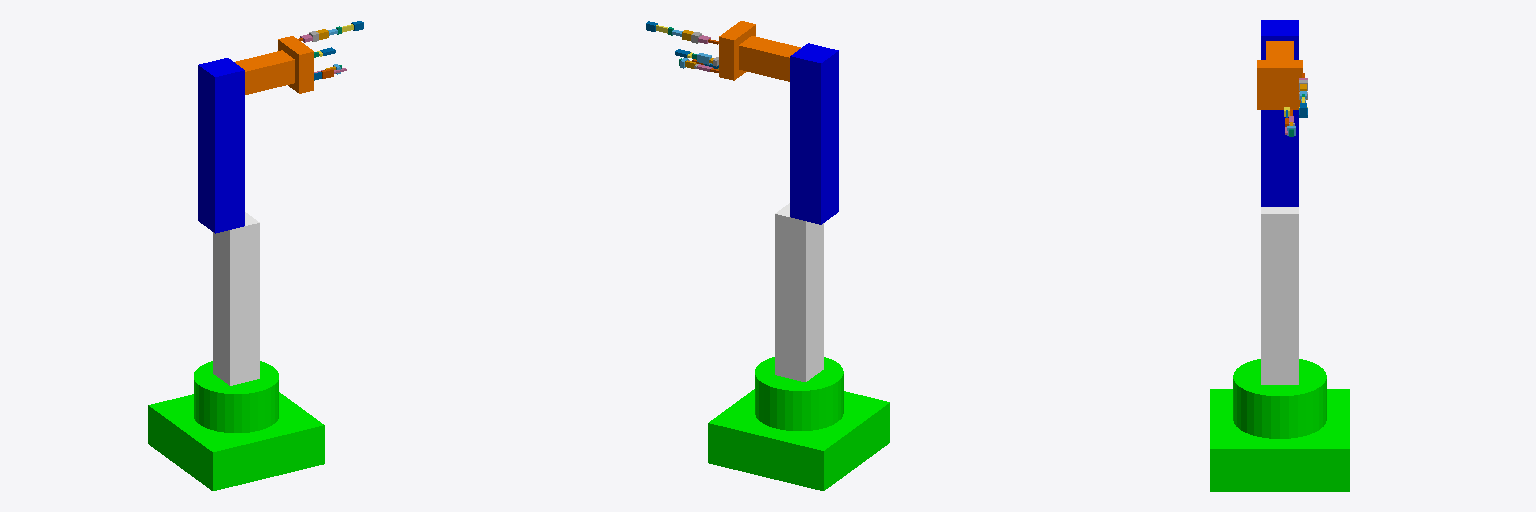
URDF robot description (robot):
<?xml version='1.0' encoding='utf-8'?>
<robot name="robot">
  <link name="base_link">
    <visual>
      <origin xyz="0 0 0.125" rpy="0 0 0" />
      <geometry>
        <box size="0.75 0.75 0.25" />
      </geometry>
      <material name="green" />
    </visual>
    <visual>
      <origin xyz="0 0 0.375" rpy="0 0 0" />
      <geometry>
        <cylinder length="0.25" radius="0.25" />
      </geometry>
      <material name="green">
        <color rgba="0 1 0 1" />
      </material>
    </visual>
    <collision>
      <geometry>
        <box size="0.75 0.75 0.5" />
      </geometry>
    </collision>
    <inertial>
      <mass value="0.5" />
      <inertia ixx="0.034" ixy="0.0" ixz="0.0" iyy="0.034" iyz="0.0" izz="0.034" />
    </inertial>
  </link>
  <link name="support_link">
    <visual>
      <origin xyz="0 0 0.5" rpy="0 0 0" />
      <geometry>
        <box size="0.2 0.2 1" />
      </geometry>
      <material name="white">
        <color rgba="1 1 1 1" />
      </material>
    </visual>
    <collision>
      <geometry>
        <box size="0.2 0.2 1" />
      </geometry>
    </collision>
    <inertial>
      <mass value="0.1" />
      <inertia ixx="0.01" ixy="0.0" ixz="0.0" iyy="0.01" iyz="0.0" izz="0.01" />
    </inertial>
  </link>
  <joint name="support_joint" type="continuous">
    <origin xyz="0 0 0.5" rpy="0 0 0" />
    <parent link="base_link" />
    <child link="support_link" />
    <axis xyz="0 0 1" />
  </joint>
  <link name="arm_link">
    <visual>
      <origin xyz="0 0 0.5" rpy="0 0 0" />
      <geometry>
        <box size="0.2 0.2 1" />
      </geometry>
      <material name="blue">
        <color rgba="0 0 1 1" />
      </material>
    </visual>
    <collision>
      <geometry>
        <box size="0.2 0.2 1" />
      </geometry>
    </collision>
    <inertial>
      <mass value="0.1" />
      <inertia ixx="0.01" ixy="0.0" ixz="0.0" iyy="0.01" iyz="0.0" izz="0.01" />
    </inertial>
  </link>
  <joint name="arm_joint" type="revolute">
    <origin xyz="-0.1 0 1" rpy="0 0 0" />
    <parent link="support_link" />
    <child link="arm_link" />
    <axis xyz="0 1 0" />
    <limit lower="-3.14" upper="3.14" effort="1.0" velocity="1.0" />
  </joint>
  <link name="wrist_link">
    <visual>
      <origin xyz="0 0 0.25" rpy="0 0 0" />
      <geometry>
        <box size="0.15 0.15 0.5" />
      </geometry>
      <material name="orange">
        <color rgba="1 0.5 0 1" />
      </material>
    </visual>
    <collision>
      <geometry>
        <box size="0.15 0.15 0.5" />
      </geometry>
    </collision>
    <inertial>
      <mass value="0.1" />
      <inertia ixx="0.01" ixy="0.0" ixz="0.0" iyy="0.01" iyz="0.0" izz="0.01" />
    </inertial>
  </link>
  <joint name="wrist_joint" type="fixed">
    <origin xyz="0 0 0.9" rpy="0 1.571 0" />
    <parent link="arm_link" />
    <child link="wrist_link" />
  </joint>
  <link name="palm_link">
    <visual>
      <origin xyz="0 0 0.05" rpy="0 0 0" />
      <geometry>
        <box size="0.25 0.25 0.1" />
      </geometry>
      <material name="orange" />
    </visual>
    <collision>
      <geometry>
        <box size="0.25 0.25 0.1" />
      </geometry>
    </collision>
    <inertial>
      <mass value="0.1" />
      <inertia ixx="0.01" ixy="0.0" ixz="0.0" iyy="0.01" iyz="0.0" izz="0.01" />
    </inertial>
  </link>
  <joint name="palm_joint" type="fixed">
    <origin xyz="0 0 0.45" rpy="0 0 0" />
    <parent link="wrist_link" />
    <child link="palm_link" />
  </joint>
  <link name="finger_link_0_0">
    <visual>
      <origin xyz="0 0 0.0425" rpy="0 0 0" />
      <geometry>
        <box size="0.014 0.018 0.085" />
      </geometry>
    </visual>
    <collision>
      <geometry>
        <box size="0.014 0.018 0.085" />
      </geometry>
    </collision>
    <inertial>
      <mass value="0.006" />
      <inertia ixx="0.0" iyy="0.0" izz="0.0" ixy="0" ixz="0" iyz="0" />
    </inertial>
  </link>
  <joint name="finger_joint_palm_link_to_finger_link_0_0" type="revolute">
    <origin xyz="0.125 0.062 0.1" rpy="0 0 0" />
    <parent link="palm_link" />
    <child link="finger_link_0_0" />
    <axis xyz="0.0 1.0 0.0" />
    <limit lower="-3.142" upper="3.142" effort="10" velocity="10" />
  </joint>
  <link name="finger_link_0_1">
    <visual>
      <origin xyz="0 0 0.042" rpy="0 0 0" />
      <geometry>
        <box size="0.018 0.03 0.084" />
      </geometry>
    </visual>
    <collision>
      <geometry>
        <box size="0.018 0.03 0.084" />
      </geometry>
    </collision>
    <inertial>
      <mass value="0.014" />
      <inertia ixx="0.0" iyy="0.0" izz="0.0" ixy="0" ixz="0" iyz="0" />
    </inertial>
  </link>
  <joint name="finger_joint_finger_link_0_0_to_finger_link_0_1" type="revolute">
    <origin xyz="0.0 0.0 0.085" rpy="0 0 0" />
    <parent link="finger_link_0_0" />
    <child link="finger_link_0_1" />
    <axis xyz="0.0 1.0 0.0" />
    <limit lower="-3.142" upper="3.142" effort="10" velocity="10" />
  </joint>
  <link name="finger_link_0_2">
    <visual>
      <origin xyz="0 0 0.008" rpy="0 0 0" />
      <geometry>
        <box size="0.014 0.035 0.016" />
      </geometry>
    </visual>
    <collision>
      <geometry>
        <box size="0.014 0.035 0.016" />
      </geometry>
    </collision>
    <inertial>
      <mass value="0.002" />
      <inertia ixx="0.0" iyy="0.0" izz="0.0" ixy="0" ixz="0" iyz="0" />
    </inertial>
  </link>
  <joint name="finger_joint_finger_link_0_1_to_finger_link_0_2" type="revolute">
    <origin xyz="0.0 0.0 0.084" rpy="0 0 0" />
    <parent link="finger_link_0_1" />
    <child link="finger_link_0_2" />
    <axis xyz="1.0 1.0 0.0" />
    <limit lower="-3.142" upper="3.142" effort="10" velocity="10" />
  </joint>
  <link name="finger_link_0_3">
    <visual>
      <origin xyz="0 0 0.031" rpy="0 0 0" />
      <geometry>
        <box size="0.036 0.018 0.062" />
      </geometry>
    </visual>
    <collision>
      <geometry>
        <box size="0.036 0.018 0.062" />
      </geometry>
    </collision>
    <inertial>
      <mass value="0.012" />
      <inertia ixx="0.0" iyy="0.0" izz="0.0" ixy="0" ixz="0" iyz="0" />
    </inertial>
  </link>
  <joint name="finger_joint_finger_link_0_2_to_finger_link_0_3" type="revolute">
    <origin xyz="0.0 0.0 0.016" rpy="0 0 0" />
    <parent link="finger_link_0_2" />
    <child link="finger_link_0_3" />
    <axis xyz="1.0 0.0 0.0" />
    <limit lower="-3.142" upper="3.142" effort="10" velocity="10" />
  </joint>
  <link name="finger_link_0_4">
    <visual>
      <origin xyz="0 0 0.013" rpy="0 0 0" />
      <geometry>
        <box size="0.042 0.05 0.026" />
      </geometry>
    </visual>
    <collision>
      <geometry>
        <box size="0.042 0.05 0.026" />
      </geometry>
    </collision>
    <inertial>
      <mass value="0.016" />
      <inertia ixx="0.0" iyy="0.0" izz="0.0" ixy="0" ixz="0" iyz="0" />
    </inertial>
  </link>
  <joint name="finger_joint_finger_link_0_3_to_finger_link_0_4" type="revolute">
    <origin xyz="0.0 0.0 0.062" rpy="0 0 0" />
    <parent link="finger_link_0_3" />
    <child link="finger_link_0_4" />
    <axis xyz="0.0 1.0 0.0" />
    <limit lower="-3.142" upper="3.142" effort="10" velocity="10" />
  </joint>
  <link name="finger_link_0_5">
    <visual>
      <origin xyz="0 0 0.0075" rpy="0 0 0" />
      <geometry>
        <box size="0.04 0.023 0.015" />
      </geometry>
    </visual>
    <collision>
      <geometry>
        <box size="0.04 0.023 0.015" />
      </geometry>
    </collision>
    <inertial>
      <mass value="0.004" />
      <inertia ixx="0.0" iyy="0.0" izz="0.0" ixy="0" ixz="0" iyz="0" />
    </inertial>
  </link>
  <joint name="finger_joint_finger_link_0_4_to_finger_link_0_5" type="revolute">
    <origin xyz="0.0 0.0 0.026" rpy="0 0 0" />
    <parent link="finger_link_0_4" />
    <child link="finger_link_0_5" />
    <axis xyz="1.0 1.0 0.0" />
    <limit lower="-3.142" upper="3.142" effort="10" velocity="10" />
  </joint>
  <link name="finger_link_1_0">
    <visual>
      <origin xyz="0 0 0.0225" rpy="0 0 0" />
      <geometry>
        <box size="0.034 0.031 0.045" />
      </geometry>
    </visual>
    <collision>
      <geometry>
        <box size="0.034 0.031 0.045" />
      </geometry>
    </collision>
    <inertial>
      <mass value="0.014" />
      <inertia ixx="0.0" iyy="0.0" izz="0.0" ixy="0" ixz="0" iyz="0" />
    </inertial>
  </link>
  <joint name="finger_joint_palm_link_to_finger_link_1_0" type="revolute">
    <origin xyz="0.125 0.036 0.1" rpy="0 0 0" />
    <parent link="palm_link" />
    <child link="finger_link_1_0" />
    <axis xyz="0.0 1.0 0.0" />
    <limit lower="-3.142" upper="3.142" effort="10" velocity="10" />
  </joint>
  <link name="finger_link_1_1">
    <visual>
      <origin xyz="0 0 0.0485" rpy="0 0 0" />
      <geometry>
        <box size="0.042 0.01 0.097" />
      </geometry>
    </visual>
    <collision>
      <geometry>
        <box size="0.042 0.01 0.097" />
      </geometry>
    </collision>
    <inertial>
      <mass value="0.012" />
      <inertia ixx="0.0" iyy="0.0" izz="0.0" ixy="0" ixz="0" iyz="0" />
    </inertial>
  </link>
  <joint name="finger_joint_finger_link_1_0_to_finger_link_1_1" type="revolute">
    <origin xyz="0.0 0.0 0.045" rpy="0 0 0" />
    <parent link="finger_link_1_0" />
    <child link="finger_link_1_1" />
    <axis xyz="1.0 1.0 0.0" />
    <limit lower="-3.142" upper="3.142" effort="10" velocity="10" />
  </joint>
  <link name="finger_link_1_2">
    <visual>
      <origin xyz="0 0 0.0375" rpy="0 0 0" />
      <geometry>
        <box size="0.046 0.021 0.075" />
      </geometry>
    </visual>
    <collision>
      <geometry>
        <box size="0.046 0.021 0.075" />
      </geometry>
    </collision>
    <inertial>
      <mass value="0.022" />
      <inertia ixx="0.0" iyy="0.0" izz="0.0" ixy="0" ixz="0" iyz="0" />
    </inertial>
  </link>
  <joint name="finger_joint_finger_link_1_1_to_finger_link_1_2" type="revolute">
    <origin xyz="0.0 0.0 0.097" rpy="0 0 0" />
    <parent link="finger_link_1_1" />
    <child link="finger_link_1_2" />
    <axis xyz="0.0 1.0 0.0" />
    <limit lower="-3.142" upper="3.142" effort="10" velocity="10" />
  </joint>
  <link name="finger_link_1_3">
    <visual>
      <origin xyz="0 0 0.043" rpy="0 0 0" />
      <geometry>
        <box size="0.012 0.018 0.086" />
      </geometry>
    </visual>
    <collision>
      <geometry>
        <box size="0.012 0.018 0.086" />
      </geometry>
    </collision>
    <inertial>
      <mass value="0.006" />
      <inertia ixx="0.0" iyy="0.0" izz="0.0" ixy="0" ixz="0" iyz="0" />
    </inertial>
  </link>
  <joint name="finger_joint_finger_link_1_2_to_finger_link_1_3" type="revolute">
    <origin xyz="0.0 0.0 0.075" rpy="0 0 0" />
    <parent link="finger_link_1_2" />
    <child link="finger_link_1_3" />
    <axis xyz="0.0 1.0 0.0" />
    <limit lower="-3.142" upper="3.142" effort="10" velocity="10" />
  </joint>
  <link name="finger_link_2_0">
    <visual>
      <origin xyz="0 0 0.0135" rpy="0 0 0" />
      <geometry>
        <box size="0.036 0.047 0.027" />
      </geometry>
    </visual>
    <collision>
      <geometry>
        <box size="0.036 0.047 0.027" />
      </geometry>
    </collision>
    <inertial>
      <mass value="0.014" />
      <inertia ixx="0.0" iyy="0.0" izz="0.0" ixy="0" ixz="0" iyz="0" />
    </inertial>
  </link>
  <joint name="finger_joint_palm_link_to_finger_link_2_0" type="revolute">
    <origin xyz="0.033 0.125 0.1" rpy="0 0 0" />
    <parent link="palm_link" />
    <child link="finger_link_2_0" />
    <axis xyz="-1.0 0.0 0.0" />
    <limit lower="-3.142" upper="3.142" effort="10" velocity="10" />
  </joint>
  <link name="finger_link_2_1">
    <visual>
      <origin xyz="0 0 0.0125" rpy="0 0 0" />
      <geometry>
        <box size="0.016 0.034 0.025" />
      </geometry>
    </visual>
    <collision>
      <geometry>
        <box size="0.016 0.034 0.025" />
      </geometry>
    </collision>
    <inertial>
      <mass value="0.004" />
      <inertia ixx="0.0" iyy="0.0" izz="0.0" ixy="0" ixz="0" iyz="0" />
    </inertial>
  </link>
  <joint name="finger_joint_finger_link_2_0_to_finger_link_2_1" type="revolute">
    <origin xyz="0.0 0.0 0.027" rpy="0 0 0" />
    <parent link="finger_link_2_0" />
    <child link="finger_link_2_1" />
    <axis xyz="1.0 0.0 0.0" />
    <limit lower="-3.142" upper="3.142" effort="10" velocity="10" />
  </joint>
  <link name="finger_link_2_2">
    <visual>
      <origin xyz="0 0 0.039" rpy="0 0 0" />
      <geometry>
        <box size="0.047 0.031 0.078" />
      </geometry>
    </visual>
    <collision>
      <geometry>
        <box size="0.047 0.031 0.078" />
      </geometry>
    </collision>
    <inertial>
      <mass value="0.034" />
      <inertia ixx="0.0" iyy="0.0" izz="0.0" ixy="0" ixz="0" iyz="0" />
    </inertial>
  </link>
  <joint name="finger_joint_finger_link_2_1_to_finger_link_2_2" type="revolute">
    <origin xyz="0.0 0.0 0.025" rpy="0 0 0" />
    <parent link="finger_link_2_1" />
    <child link="finger_link_2_2" />
    <axis xyz="1.0 0.0 0.0" />
    <limit lower="-3.142" upper="3.142" effort="10" velocity="10" />
  </joint>
  <link name="finger_link_2_3">
    <visual>
      <origin xyz="0 0 0.021" rpy="0 0 0" />
      <geometry>
        <box size="0.026 0.015 0.042" />
      </geometry>
    </visual>
    <collision>
      <geometry>
        <box size="0.026 0.015 0.042" />
      </geometry>
    </collision>
    <inertial>
      <mass value="0.005" />
      <inertia ixx="0.0" iyy="0.0" izz="0.0" ixy="0" ixz="0" iyz="0" />
    </inertial>
  </link>
  <joint name="finger_joint_finger_link_2_2_to_finger_link_2_3" type="revolute">
    <origin xyz="0.0 0.0 0.078" rpy="0 0 0" />
    <parent link="finger_link_2_2" />
    <child link="finger_link_2_3" />
    <axis xyz="0.0 1.0 0.0" />
    <limit lower="-3.142" upper="3.142" effort="10" velocity="10" />
  </joint>
  <link name="finger_link_2_4">
    <visual>
      <origin xyz="0 0 0.01" rpy="0 0 0" />
      <geometry>
        <box size="0.016 0.045 0.02" />
      </geometry>
    </visual>
    <collision>
      <geometry>
        <box size="0.016 0.045 0.02" />
      </geometry>
    </collision>
    <inertial>
      <mass value="0.004" />
      <inertia ixx="0.0" iyy="0.0" izz="0.0" ixy="0" ixz="0" iyz="0" />
    </inertial>
  </link>
  <joint name="finger_joint_finger_link_2_3_to_finger_link_2_4" type="revolute">
    <origin xyz="0.0 0.0 0.042" rpy="0 0 0" />
    <parent link="finger_link_2_3" />
    <child link="finger_link_2_4" />
    <axis xyz="1.0 0.0 0.0" />
    <limit lower="-3.142" upper="3.142" effort="10" velocity="10" />
  </joint>
  <link name="finger_link_2_5">
    <visual>
      <origin xyz="0 0 0.0405" rpy="0 0 0" />
      <geometry>
        <box size="0.021 0.045 0.081" />
      </geometry>
    </visual>
    <collision>
      <geometry>
        <box size="0.021 0.045 0.081" />
      </geometry>
    </collision>
    <inertial>
      <mass value="0.023" />
      <inertia ixx="0.0" iyy="0.0" izz="0.0" ixy="0" ixz="0" iyz="0" />
    </inertial>
  </link>
  <joint name="finger_joint_finger_link_2_4_to_finger_link_2_5" type="revolute">
    <origin xyz="0.0 0.0 0.02" rpy="0 0 0" />
    <parent link="finger_link_2_4" />
    <child link="finger_link_2_5" />
    <axis xyz="0.0 1.0 0.0" />
    <limit lower="-3.142" upper="3.142" effort="10" velocity="10" />
  </joint>
  <link name="finger_link_3_0">
    <visual>
      <origin xyz="0 0 0.032" rpy="0 0 0" />
      <geometry>
        <box size="0.014 0.015 0.064" />
      </geometry>
    </visual>
    <collision>
      <geometry>
        <box size="0.014 0.015 0.064" />
      </geometry>
    </collision>
    <inertial>
      <mass value="0.004" />
      <inertia ixx="0.0" iyy="0.0" izz="0.0" ixy="0" ixz="0" iyz="0" />
    </inertial>
  </link>
  <joint name="finger_joint_palm_link_to_finger_link_3_0" type="revolute">
    <origin xyz="-0.086 0.125 0.1" rpy="0 0 0" />
    <parent link="palm_link" />
    <child link="finger_link_3_0" />
    <axis xyz="-1.0 0.0 0.0" />
    <limit lower="-3.142" upper="3.142" effort="10" velocity="10" />
  </joint>
  <link name="finger_link_3_1">
    <visual>
      <origin xyz="0 0 0.0285" rpy="0 0 0" />
      <geometry>
        <box size="0.023 0.05 0.057" />
      </geometry>
    </visual>
    <collision>
      <geometry>
        <box size="0.023 0.05 0.057" />
      </geometry>
    </collision>
    <inertial>
      <mass value="0.02" />
      <inertia ixx="0.0" iyy="0.0" izz="0.0" ixy="0" ixz="0" iyz="0" />
    </inertial>
  </link>
  <joint name="finger_joint_finger_link_3_0_to_finger_link_3_1" type="revolute">
    <origin xyz="0.0 0.0 0.064" rpy="0 0 0" />
    <parent link="finger_link_3_0" />
    <child link="finger_link_3_1" />
    <axis xyz="0.0 1.0 0.0" />
    <limit lower="-3.142" upper="3.142" effort="10" velocity="10" />
  </joint>
  <link name="finger_link_3_2">
    <visual>
      <origin xyz="0 0 0.0215" rpy="0 0 0" />
      <geometry>
        <box size="0.047 0.048 0.043" />
      </geometry>
    </visual>
    <collision>
      <geometry>
        <box size="0.047 0.048 0.043" />
      </geometry>
    </collision>
    <inertial>
      <mass value="0.029" />
      <inertia ixx="0.0" iyy="0.0" izz="0.0" ixy="0" ixz="0" iyz="0" />
    </inertial>
  </link>
  <joint name="finger_joint_finger_link_3_1_to_finger_link_3_2" type="revolute">
    <origin xyz="0.0 0.0 0.057" rpy="0 0 0" />
    <parent link="finger_link_3_1" />
    <child link="finger_link_3_2" />
    <axis xyz="1.0 0.0 0.0" />
    <limit lower="-3.142" upper="3.142" effort="10" velocity="10" />
  </joint>
  <link name="finger_link_3_3">
    <visual>
      <origin xyz="0 0 0.0325" rpy="0 0 0" />
      <geometry>
        <box size="0.044 0.04 0.065" />
      </geometry>
    </visual>
    <collision>
      <geometry>
        <box size="0.044 0.04 0.065" />
      </geometry>
    </collision>
    <inertial>
      <mass value="0.034" />
      <inertia ixx="0.0" iyy="0.0" izz="0.0" ixy="0" ixz="0" iyz="0" />
    </inertial>
  </link>
  <joint name="finger_joint_finger_link_3_2_to_finger_link_3_3" type="revolute">
    <origin xyz="0.0 0.0 0.043" rpy="0 0 0" />
    <parent link="finger_link_3_2" />
    <child link="finger_link_3_3" />
    <axis xyz="0.0 1.0 0.0" />
    <limit lower="-3.142" upper="3.142" effort="10" velocity="10" />
  </joint>
  <link name="finger_link_3_4">
    <visual>
      <origin xyz="0 0 0.033" rpy="0 0 0" />
      <geometry>
        <box size="0.018 0.033 0.066" />
      </geometry>
    </visual>
    <collision>
      <geometry>
        <box size="0.018 0.033 0.066" />
      </geometry>
    </collision>
    <inertial>
      <mass value="0.012" />
      <inertia ixx="0.0" iyy="0.0" izz="0.0" ixy="0" ixz="0" iyz="0" />
    </inertial>
  </link>
  <joint name="finger_joint_finger_link_3_3_to_finger_link_3_4" type="revolute">
    <origin xyz="0.0 0.0 0.065" rpy="0 0 0" />
    <parent link="finger_link_3_3" />
    <child link="finger_link_3_4" />
    <axis xyz="0.0 1.0 0.0" />
    <limit lower="-3.142" upper="3.142" effort="10" velocity="10" />
  </joint>
  <link name="finger_link_3_5">
    <visual>
      <origin xyz="0 0 0.0135" rpy="0 0 0" />
      <geometry>
        <box size="0.04 0.019 0.027" />
      </geometry>
    </visual>
    <collision>
      <geometry>
        <box size="0.04 0.019 0.027" />
      </geometry>
    </collision>
    <inertial>
      <mass value="0.006" />
      <inertia ixx="0.0" iyy="0.0" izz="0.0" ixy="0" ixz="0" iyz="0" />
    </inertial>
  </link>
  <joint name="finger_joint_finger_link_3_4_to_finger_link_3_5" type="revolute">
    <origin xyz="0.0 0.0 0.066" rpy="0 0 0" />
    <parent link="finger_link_3_4" />
    <child link="finger_link_3_5" />
    <axis xyz="0.0 1.0 0.0" />
    <limit lower="-3.142" upper="3.142" effort="10" velocity="10" />
  </joint>
  <link name="finger_link_3_6">
    <visual>
      <origin xyz="0 0 0.0405" rpy="0 0 0" />
      <geometry>
        <box size="0.032 0.012 0.081" />
      </geometry>
    </visual>
    <collision>
      <geometry>
        <box size="0.032 0.012 0.081" />
      </geometry>
    </collision>
    <inertial>
      <mass value="0.009" />
      <inertia ixx="0.0" iyy="0.0" izz="0.0" ixy="0" ixz="0" iyz="0" />
    </inertial>
  </link>
  <joint name="finger_joint_finger_link_3_5_to_finger_link_3_6" type="revolute">
    <origin xyz="0.0 0.0 0.027" rpy="0 0 0" />
    <parent link="finger_link_3_5" />
    <child link="finger_link_3_6" />
    <axis xyz="0.0 1.0 0.0" />
    <limit lower="-3.142" upper="3.142" effort="10" velocity="10" />
  </joint>
  <link name="finger_link_3_7">
    <visual>
      <origin xyz="0 0 0.031" rpy="0 0 0" />
      <geometry>
        <box size="0.042 0.035 0.062" />
      </geometry>
    </visual>
    <collision>
      <geometry>
        <box size="0.042 0.035 0.062" />
      </geometry>
    </collision>
    <inertial>
      <mass value="0.027" />
      <inertia ixx="0.0" iyy="0.0" izz="0.0" ixy="0" ixz="0" iyz="0" />
    </inertial>
  </link>
  <joint name="finger_joint_finger_link_3_6_to_finger_link_3_7" type="revolute">
    <origin xyz="0.0 0.0 0.081" rpy="0 0 0" />
    <parent link="finger_link_3_6" />
    <child link="finger_link_3_7" />
    <axis xyz="1.0 1.0 0.0" />
    <limit lower="-3.142" upper="3.142" effort="10" velocity="10" />
  </joint>
</robot>

--- What the picture shows (computed from the rendered views, not written in the file) ---
The picture shows the robot from 3 angles, left to right: view 1: azimuth 30°, elevation 25°; view 2: azimuth 150°, elevation 25°; view 3: azimuth 270°, elevation 25°; orthographic projection.
Model robot with 29 links and 28 joints (25 revolute, 1 continuous, 2 fixed), rooted at base_link, posed all joints at 0.
Visible links, largest first — view 1: base_link, arm_link, support_link, wrist_link, palm_link; view 2: base_link, arm_link, support_link, wrist_link, palm_link; view 3: base_link, support_link, arm_link, palm_link, wrist_link.
Link boxes in pixels (x1,y1,x2,y2): base_link: (148,361,324,490); arm_link: (198,58,244,233); support_link: (213,212,259,385); wrist_link: (235,50,294,94); palm_link: (278,36,313,93); base_link: (708,357,889,490); arm_link: (790,43,838,224); support_link: (775,203,823,381); wrist_link: (739,36,800,81); palm_link: (719,21,755,80); base_link: (1210,359,1349,491); support_link: (1261,207,1298,384); arm_link: (1261,20,1298,206); palm_link: (1257,60,1302,109); wrist_link: (1266,41,1293,59).
Bounding box of the posed robot: 1.29 × 0.75 × 2.52 m (x, y, z).
Geometry: primitives only (box / cylinder / sphere), no mesh files.